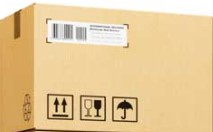stock: (1, 3, 213, 129)
